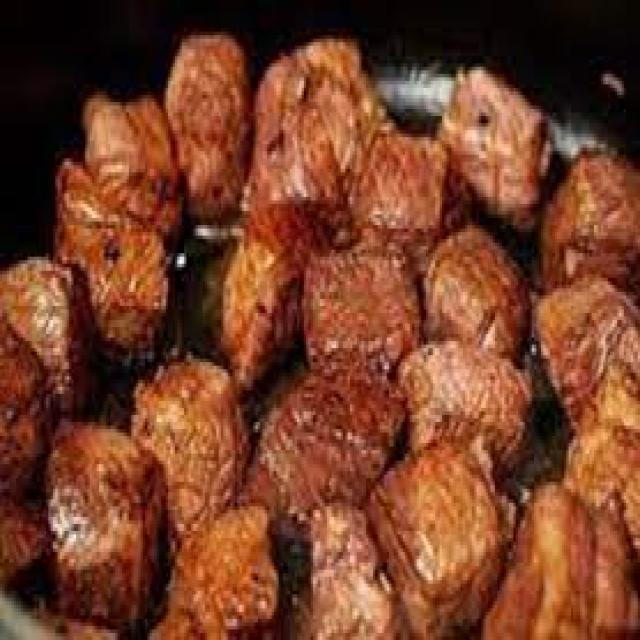Carne: (0, 28, 638, 637)
